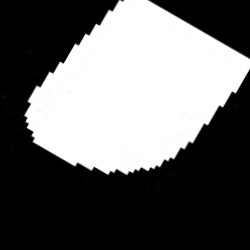spot: (26, 2, 246, 174)
